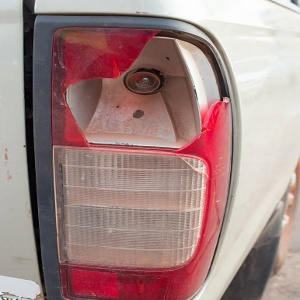tail_lights: (25, 9, 238, 300)
